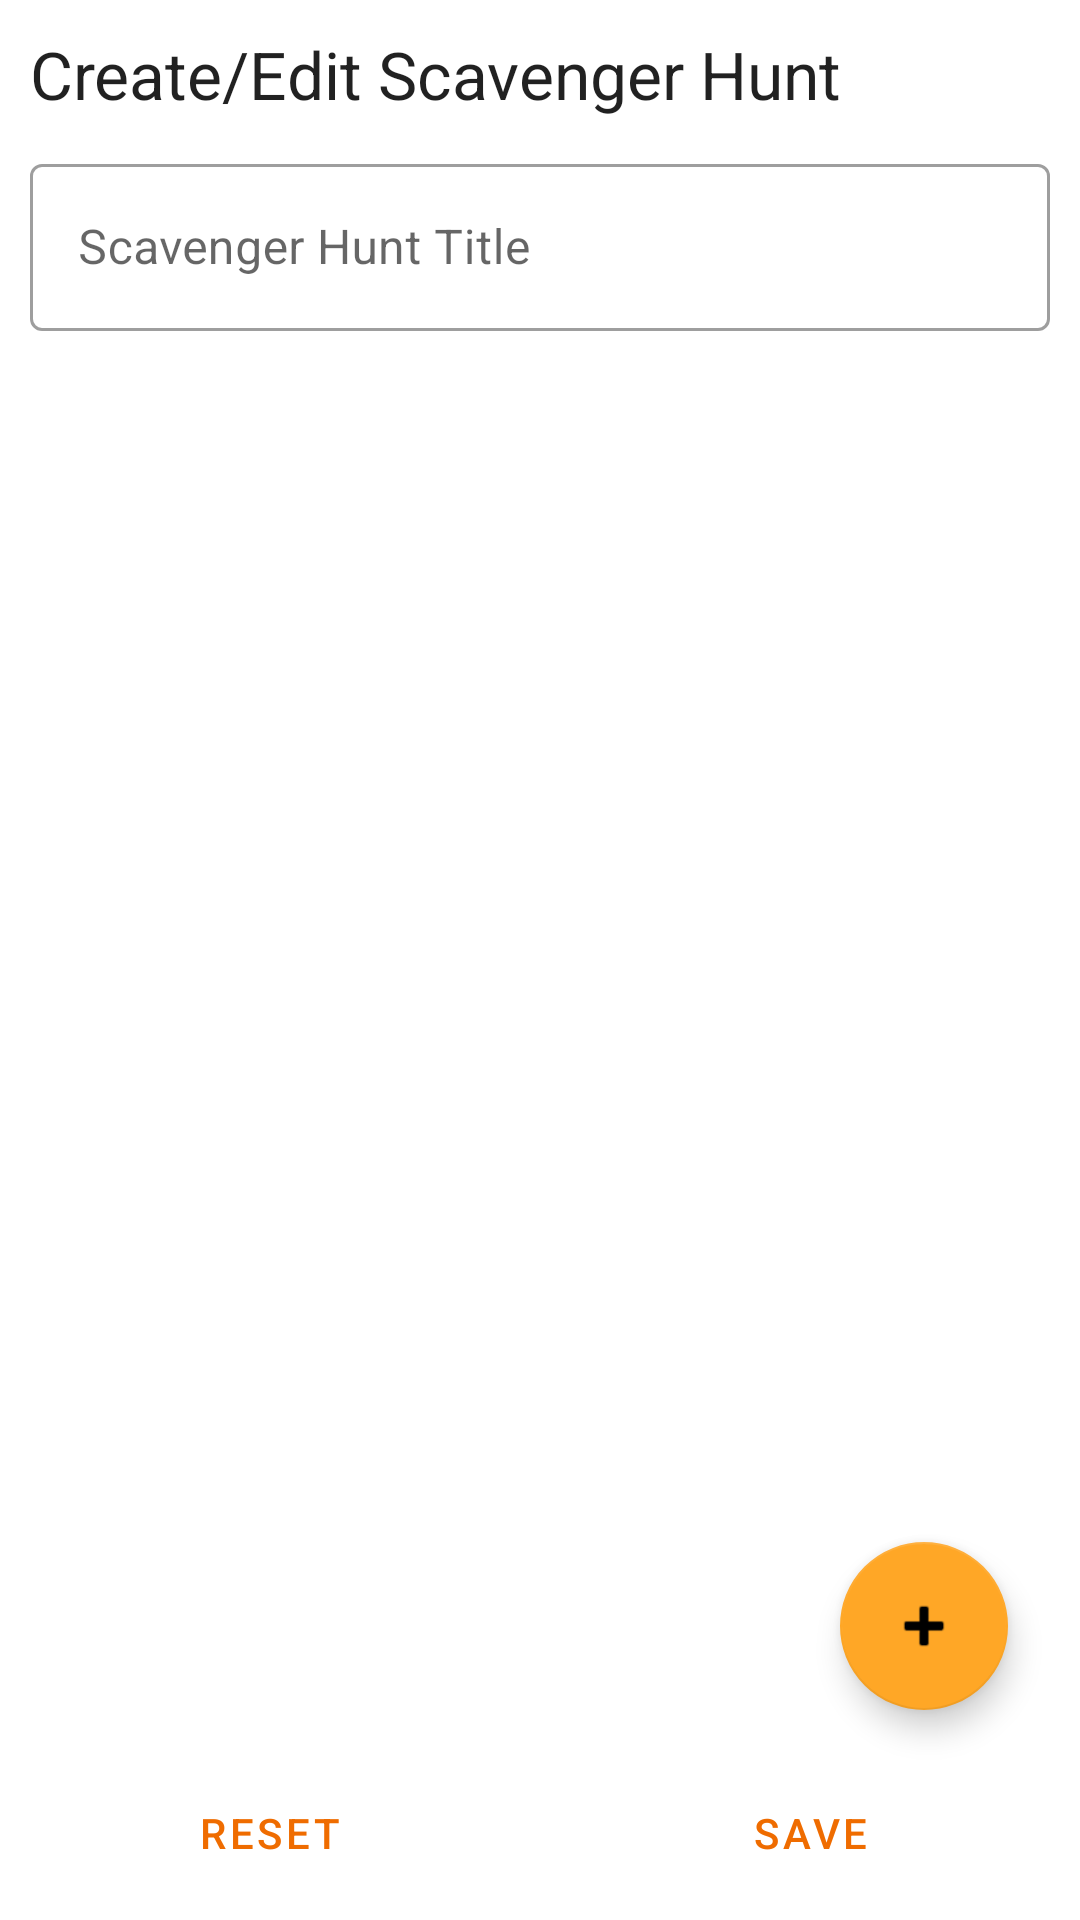

Screen size 1080×1920. Icon name, then its box in pixels as bbox(x1, y1, x2, y2):
add: bbox(840, 1542, 1008, 1710)
